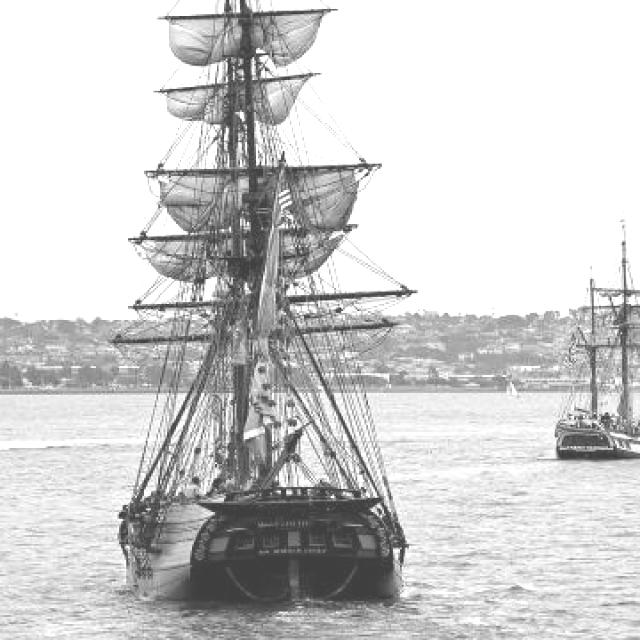ship: (107, 0, 409, 606), (553, 208, 640, 459)
